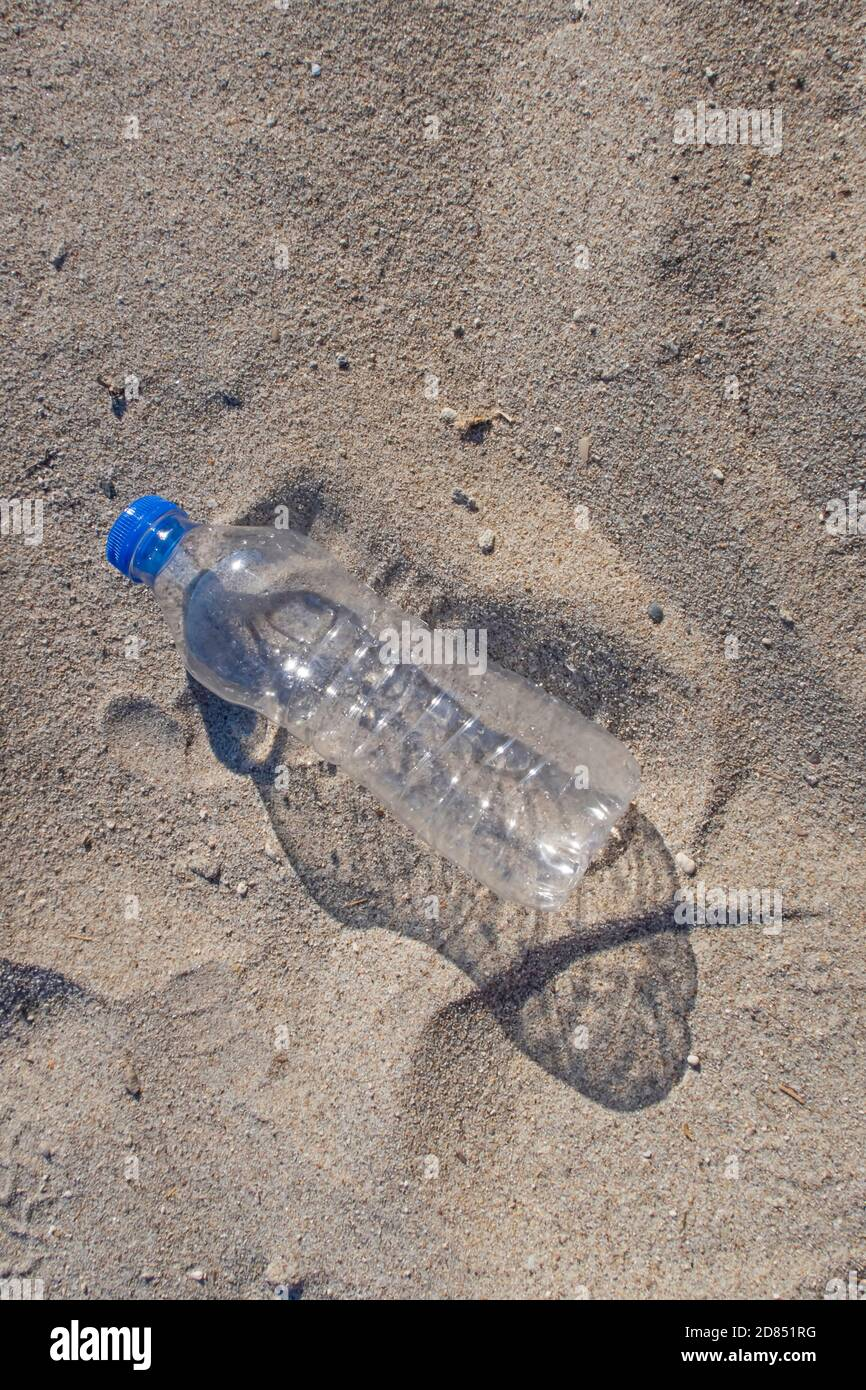plasticbottle: (95, 470, 693, 923)
